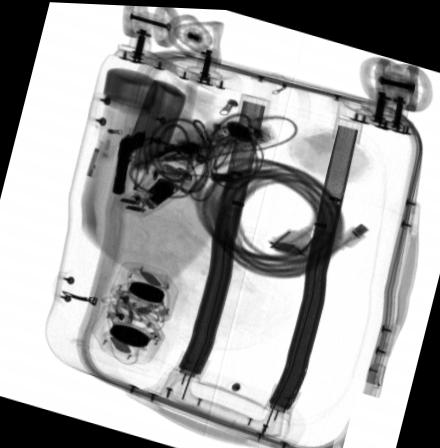Gun: (112, 129, 145, 193)
